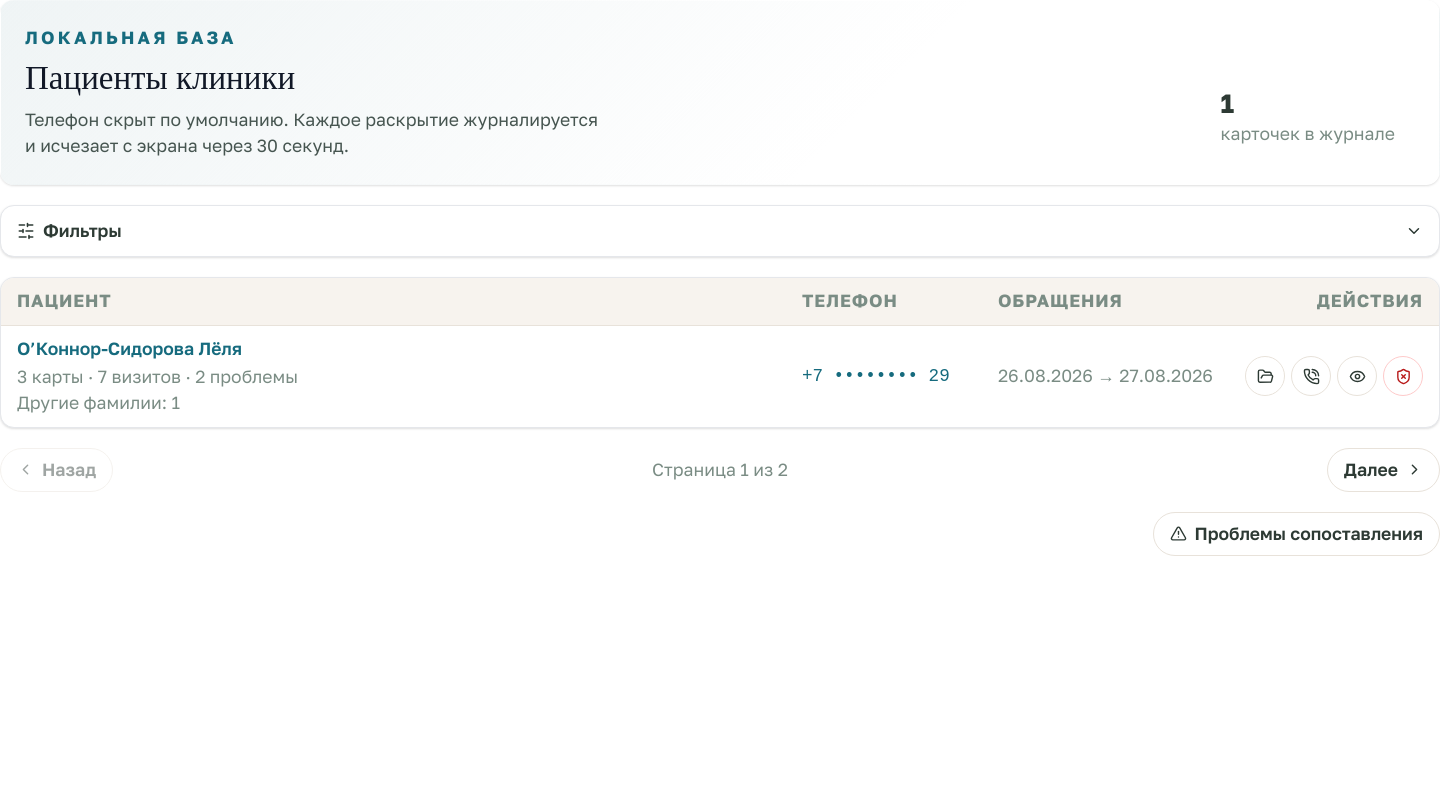
Test: Patients admin view › keeps destruction disabled until the administrator types the confirmation word
Expected: the link "О’Коннор-Сидорова Лёля" is shown, [17, 338, 242, 359]
Click the button named "Уничтожить данные О’Коннор-Сидорова Лёля" at (1403, 376), box [1383, 356, 1423, 396]
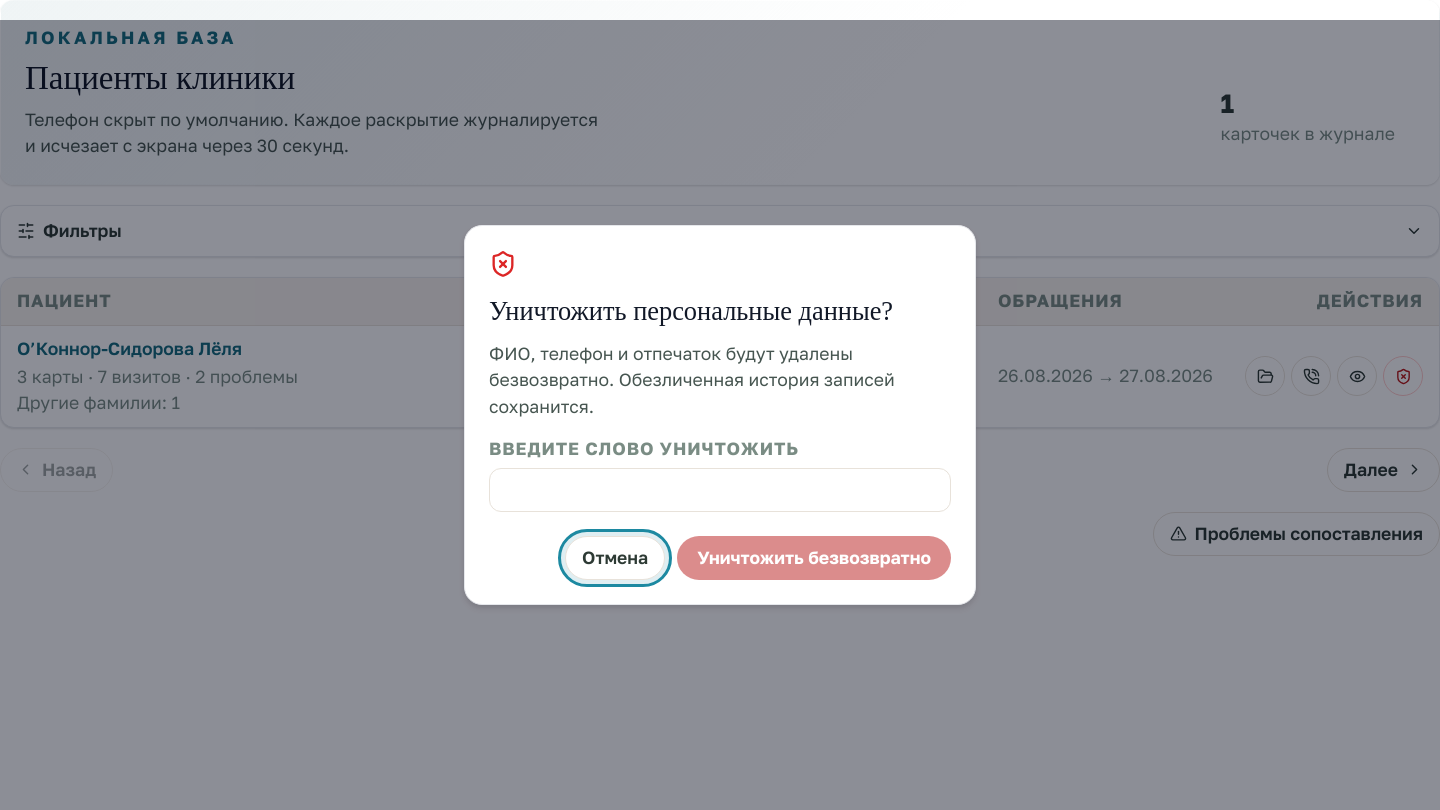
Expected: the button "Уничтожить безвозвратно" is disabled, [677, 536, 951, 580]
